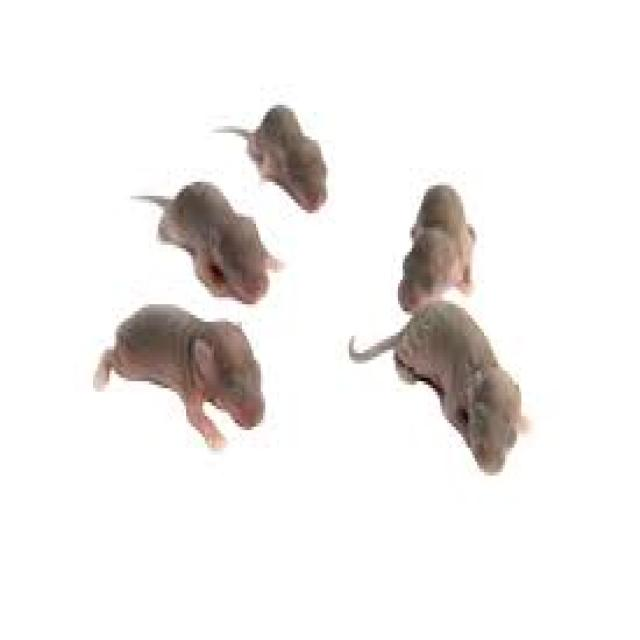rat: (346, 297, 524, 472), (91, 300, 265, 448), (128, 178, 284, 304), (212, 102, 328, 214), (396, 182, 477, 311)
